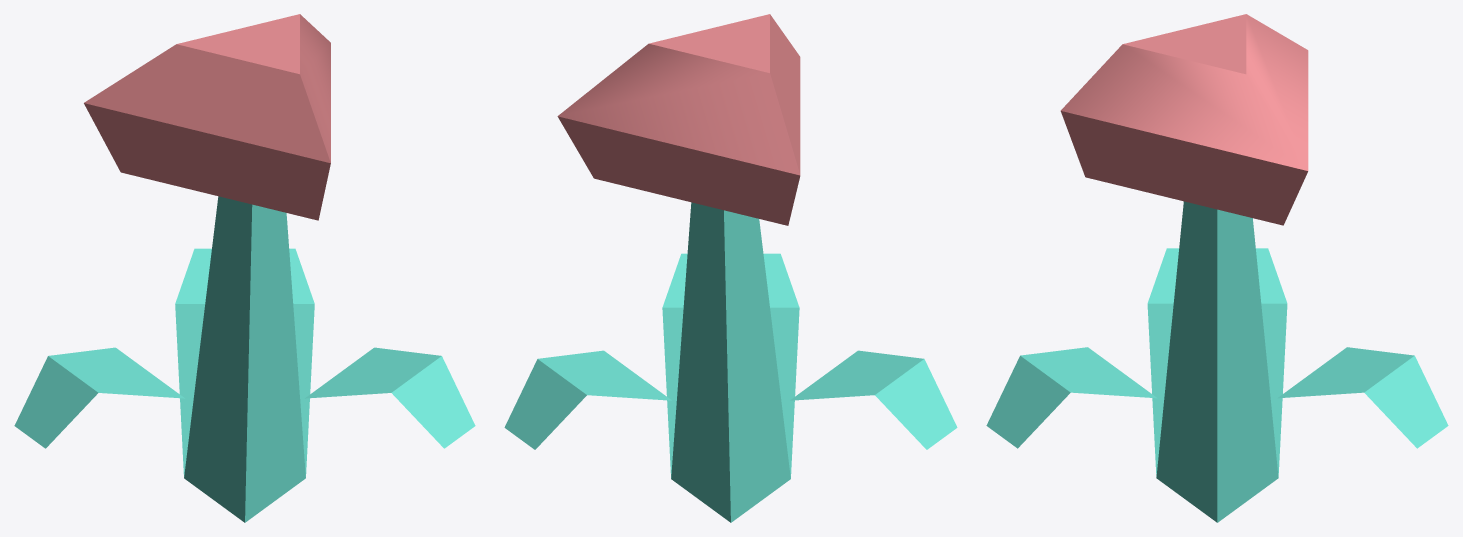
The model's file is kenney-nature__flower_redB.glb.
The picture shows the model from 3 angles, left to right: view 1: azimuth 30°, elevation 25°; view 2: azimuth 150°, elevation 25°; view 3: azimuth 270°, elevation 25°; orthographic projection.
Visible parts, largest first — view 1: flower_redB; view 2: flower_redB; view 3: flower_redB.
Boxes of the visible parts, x1,y1,x2,y2 form: flower_redB: (14,14,475,522); flower_redB: (504,14,957,522); flower_redB: (986,14,1448,522).
Bounding box in the file's own units: 0.2073 × 0.2585 × 0.2392.
